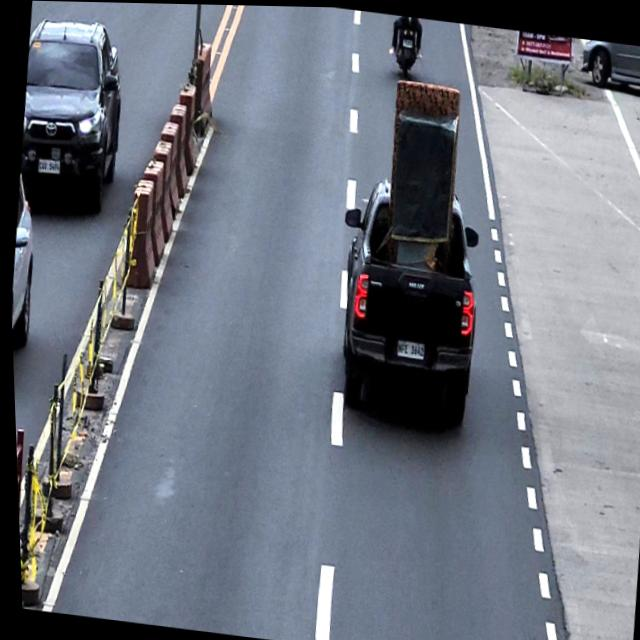Car: (321, 170, 489, 425), (12, 11, 131, 207), (5, 172, 43, 350), (577, 36, 640, 93)
License-Plate: (392, 335, 423, 358), (34, 157, 61, 175), (401, 35, 413, 46)
Motorcycle: (387, 12, 424, 77)
